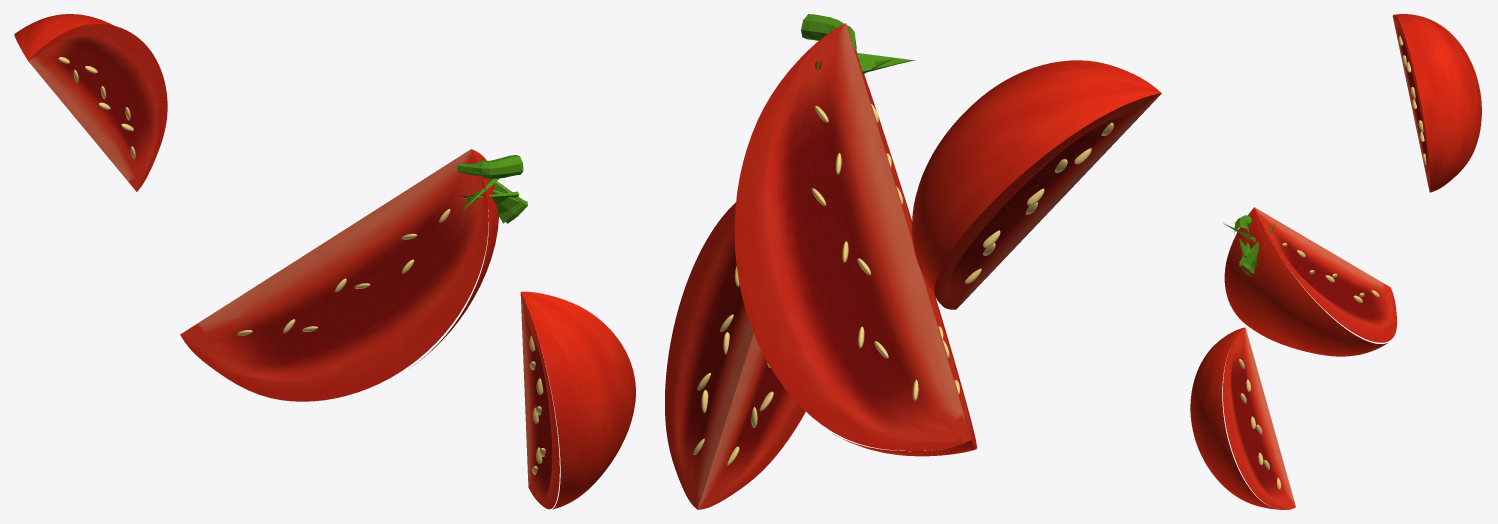
File: tomato-slices.glb
3 views of the same model, side by side, from view 1: azimuth 30°, elevation 25°; view 2: azimuth 150°, elevation 25°; view 3: azimuth 270°, elevation 25° (orthographic). The views are drawn at different scales.
Visible parts, largest first — view 1: tomato-wedges-flesh, tomato-wedges-skin, tomato-calyx-stem, tomato-seeds; view 2: tomato-wedges-flesh, tomato-wedges-skin, tomato-seeds, tomato-calyx-stem; view 3: tomato-wedges-skin, tomato-wedges-flesh, tomato-seeds, tomato-calyx-stem.
Boxes of the visible parts, x1,y1,x2,y2 form: tomato-wedges-flesh: [28, 24, 559, 509]; tomato-wedges-skin: [14, 14, 635, 509]; tomato-calyx-stem: [457, 155, 527, 223]; tomato-seeds: [58, 57, 545, 474]; tomato-wedges-flesh: [665, 23, 1161, 509]; tomato-wedges-skin: [832, 60, 1161, 456]; tomato-seeds: [693, 104, 1113, 465]; tomato-calyx-stem: [801, 14, 915, 73]; tomato-wedges-skin: [1190, 14, 1481, 509]; tomato-wedges-flesh: [1223, 15, 1430, 509]; tomato-seeds: [1239, 35, 1426, 489]; tomato-calyx-stem: [1223, 215, 1275, 276].
Bounding box in the file's own units: 0.1098 × 0.1062 × 0.0794.
5 materials, 2 textured.
